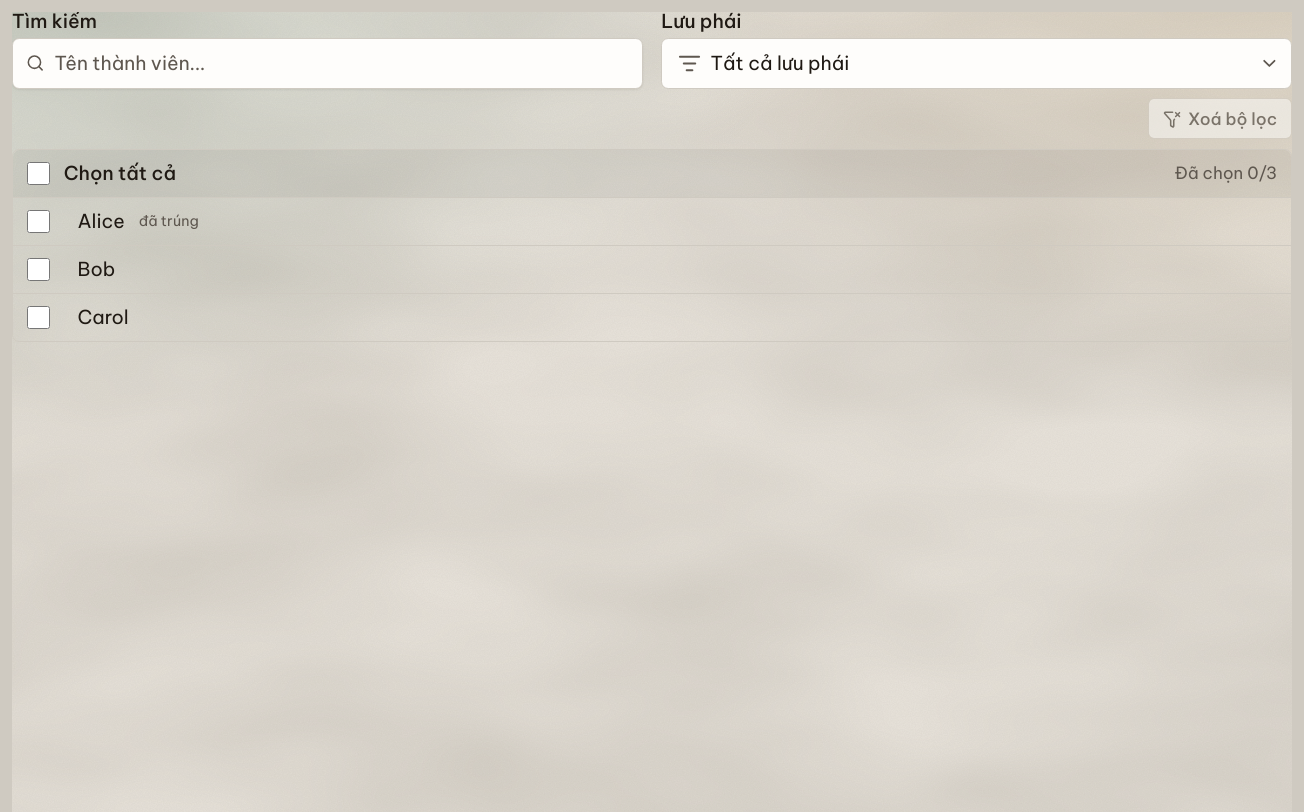
Test case: RosterChecklist › clears the name filter with Xoá bộ lọc
This screenshot has width=1304, height=812.
Expected: the button "Xoá bộ lọc" is disabled, [1148,98,1292,140]
In the field labelled "Tìm kiếm": (327, 63) [12,38,643,89], type "bo"
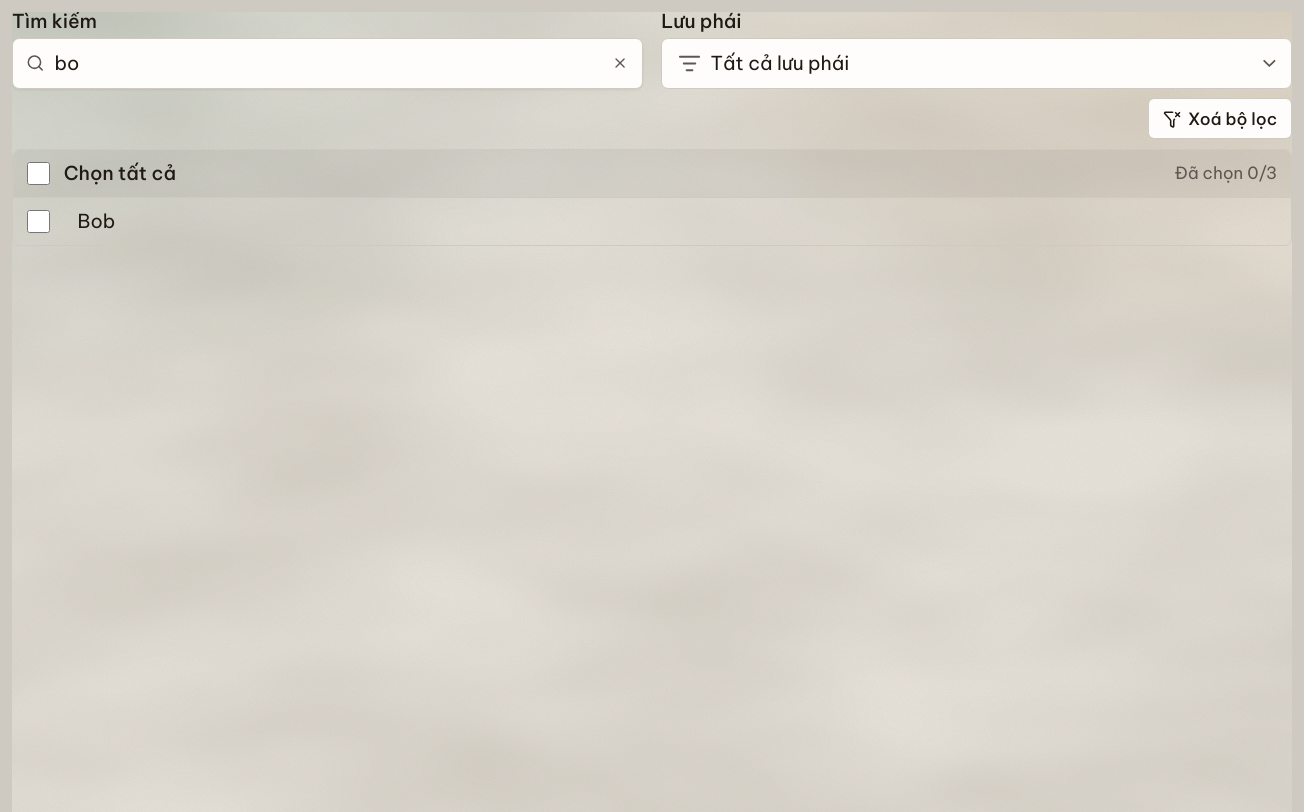
Click the button "Xoá bộ lọc": (1220, 119) [1148,98,1292,140]
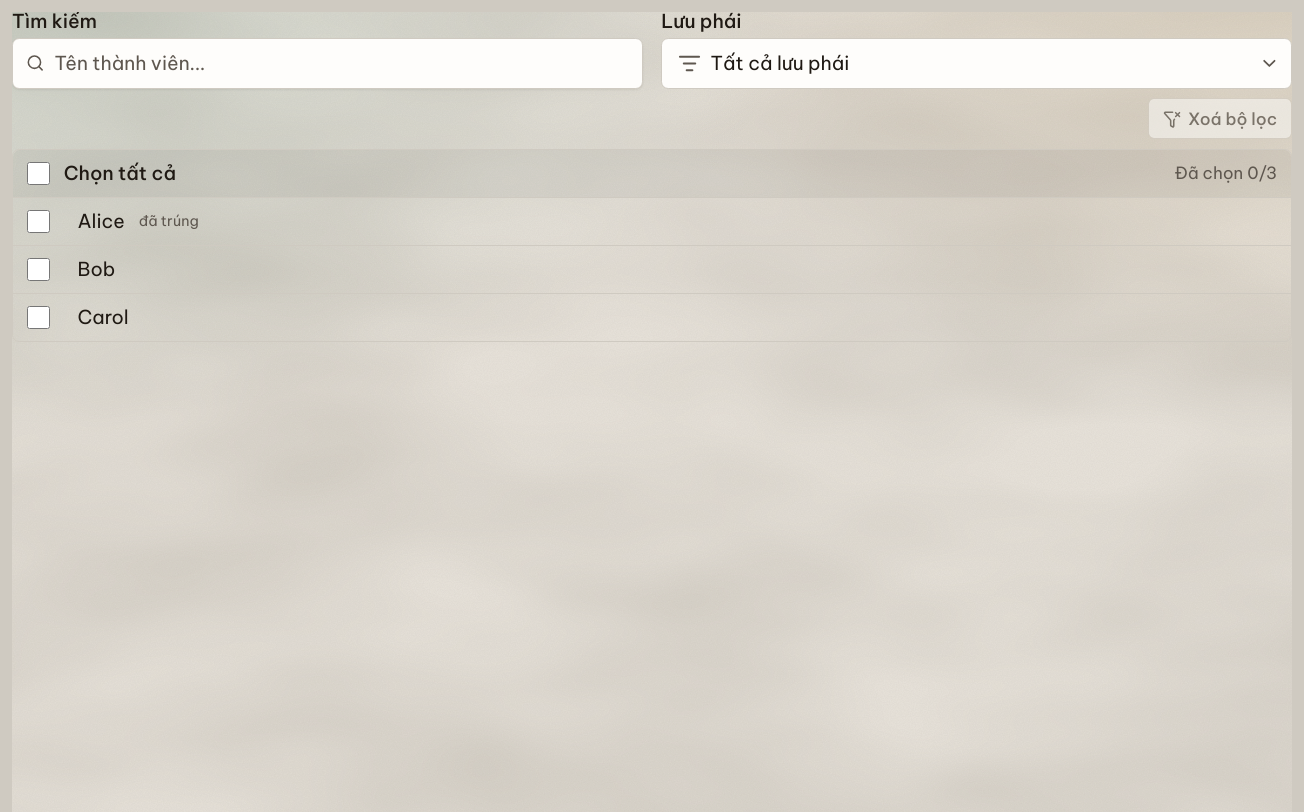
Expected: the text "Alice" is shown, [78,207,125,236]
Expected: the button "Xoá bộ lọc" is disabled, [1148,98,1292,140]
